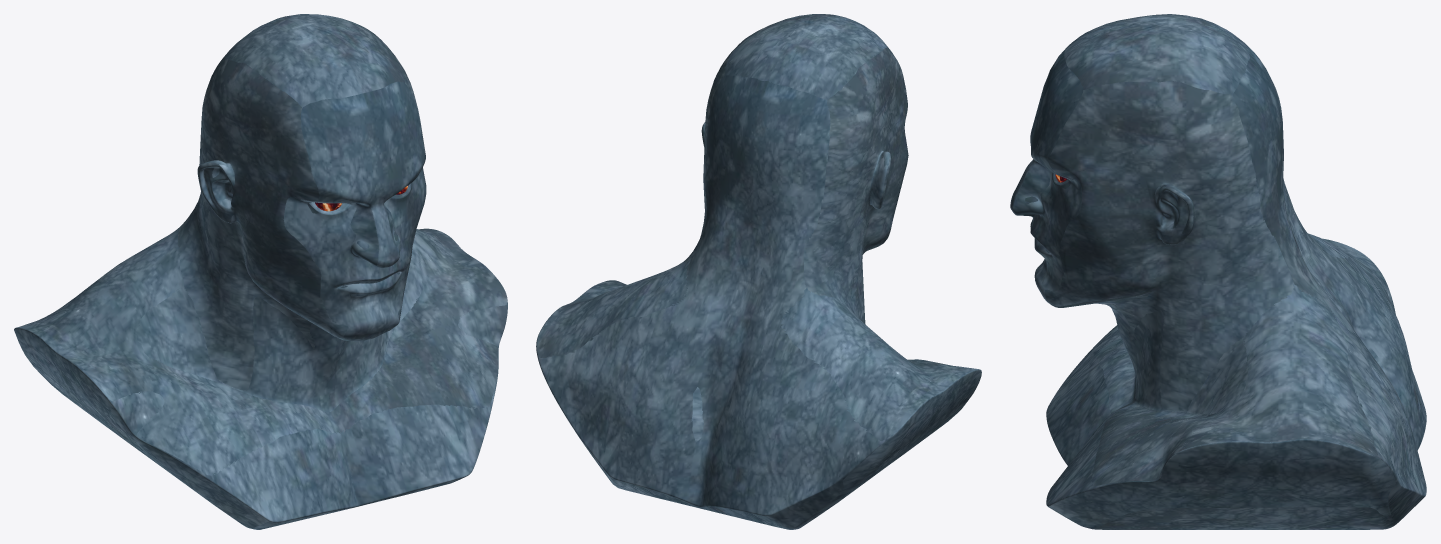
Rendered from MHead.glb.
3 views of the same model, side by side, from view 1: azimuth 30°, elevation 25°; view 2: azimuth 150°, elevation 25°; view 3: azimuth 270°, elevation 25° (orthographic). The views are drawn at different scales.
Visible parts, largest first — view 1: Male_Head; view 2: Male_Head; view 3: Male_Head.
Part boxes in pixels (bbox=[...]): Male_Head: bbox=[14, 14, 507, 529]; Male_Head: bbox=[536, 14, 981, 529]; Male_Head: bbox=[1010, 14, 1426, 529].
Bounding box in the file's own units: 0.3255 × 0.344 × 0.2827.
Materials: 2 (2 with a texture image).
